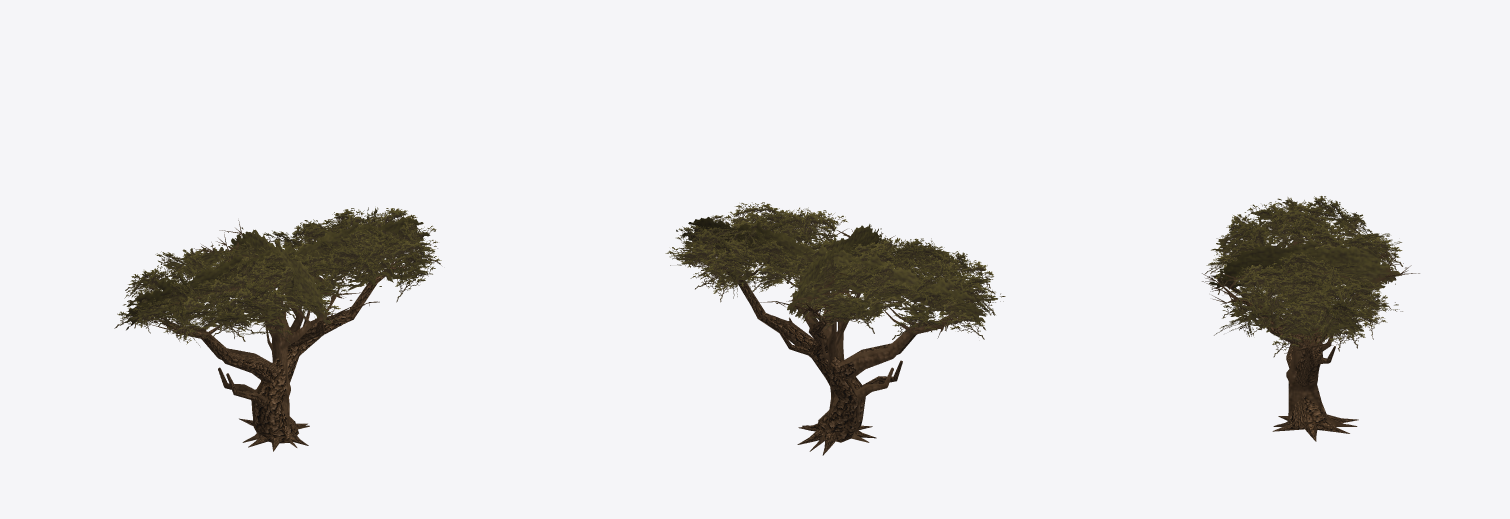
File: Acacia_05_Ancia_Retorcida.glb
3 views of the same model, side by side, from view 1: azimuth 30°, elevation 25°; view 2: azimuth 150°, elevation 25°; view 3: azimuth 270°, elevation 25° (orthographic). The views are drawn at different scales.
Parts seen in each view (by area): view 1: Folhagem fina, Acacia_05_Ancia_Retorcida impostor, Tronco e raizes, Ramos principais; view 2: Folhagem fina, Acacia_05_Ancia_Retorcida impostor, Tronco e raizes, Ramos principais; view 3: Folhagem fina, Acacia_05_Ancia_Retorcida impostor, Tronco e raizes, Ramos principais.
Boxes of the visible parts, <box> form: Folhagem fina: <box>114,207,441,345</box>; Acacia_05_Ancia_Retorcida impostor: <box>121,217,437,447</box>; Tronco e raizes: <box>239,329,308,451</box>; Ramos principais: <box>176,267,395,382</box>; Folhagem fina: <box>665,202,1003,339</box>; Acacia_05_Ancia_Retorcida impostor: <box>670,213,1005,451</box>; Tronco e raizes: <box>797,339,876,455</box>; Ramos principais: <box>726,268,939,379</box>; Folhagem fina: <box>1205,196,1402,357</box>; Acacia_05_Ancia_Retorcida impostor: <box>1207,198,1407,426</box>; Tronco e raizes: <box>1272,335,1358,441</box>; Ramos principais: <box>1234,298,1353,368</box>.
Size of what is drawn, in the model's own units: 11.44 by 11.44 by 11.44.
3 materials, 3 textured.
